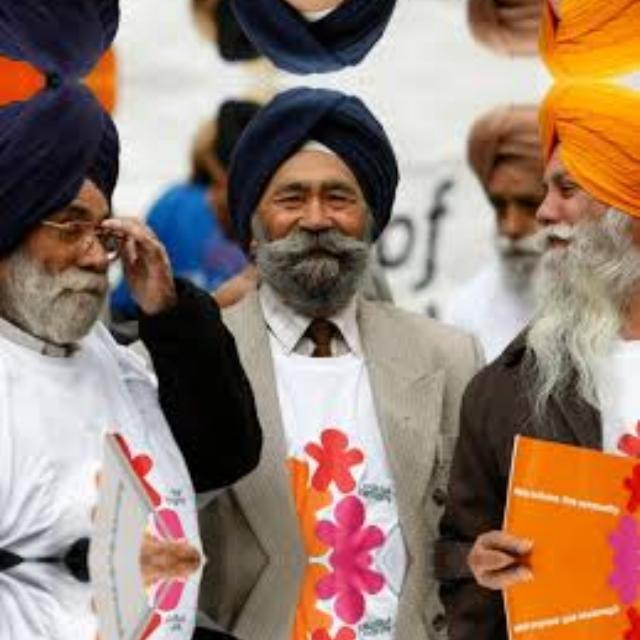person: (175, 86, 471, 560), (0, 80, 230, 560), (468, 85, 640, 560), (175, 559, 471, 640), (175, 0, 471, 73), (0, 559, 230, 640), (0, 0, 230, 79), (468, 559, 639, 640), (468, 0, 639, 75)
